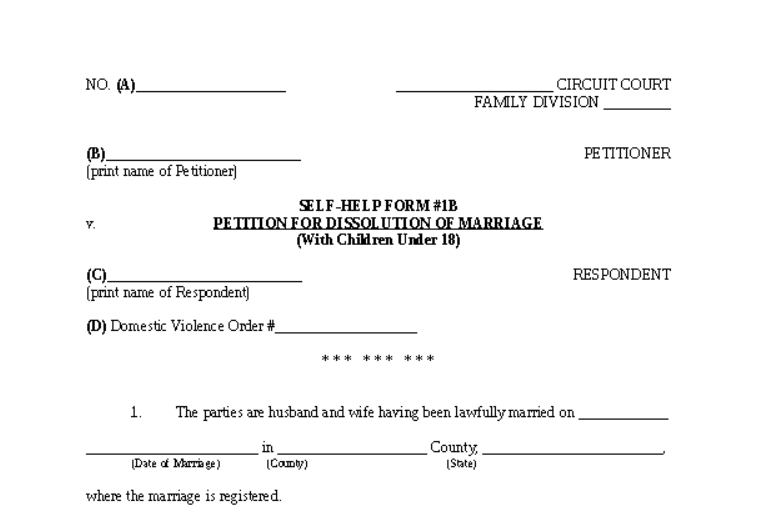textline: (104, 145, 302, 164), (105, 266, 303, 285), (274, 436, 430, 457), (394, 75, 555, 95), (479, 442, 665, 459), (84, 439, 259, 457), (134, 75, 288, 95), (273, 319, 420, 336), (577, 405, 670, 422), (601, 94, 672, 112)
